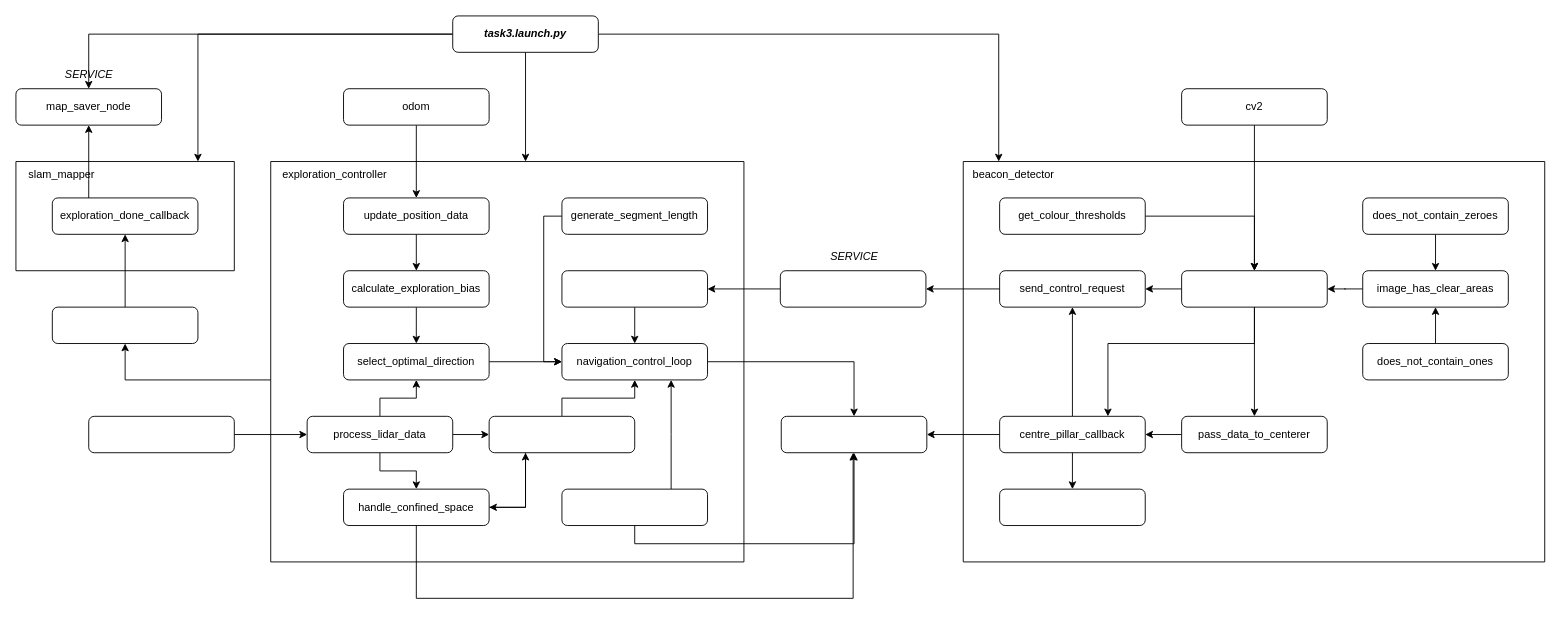
The diagram is 1561 pixels wide and 622 high, and some of its shapes have lost their labels. The shapes that lost their labels are listed below. From the top down, each one's centre as x and y in pixels, then its label:
[634,288]: control_relinquisher_callback
[852,288]: control_requester/relinquisher
[1254,288]: camera_callback
[124,325]: exploration_done
[161,434]: LaserScan
[561,434]: is_confined_space
[853,434]: cmd_vel
[634,507]: finalize_exploration
[1072,507]: save_image
